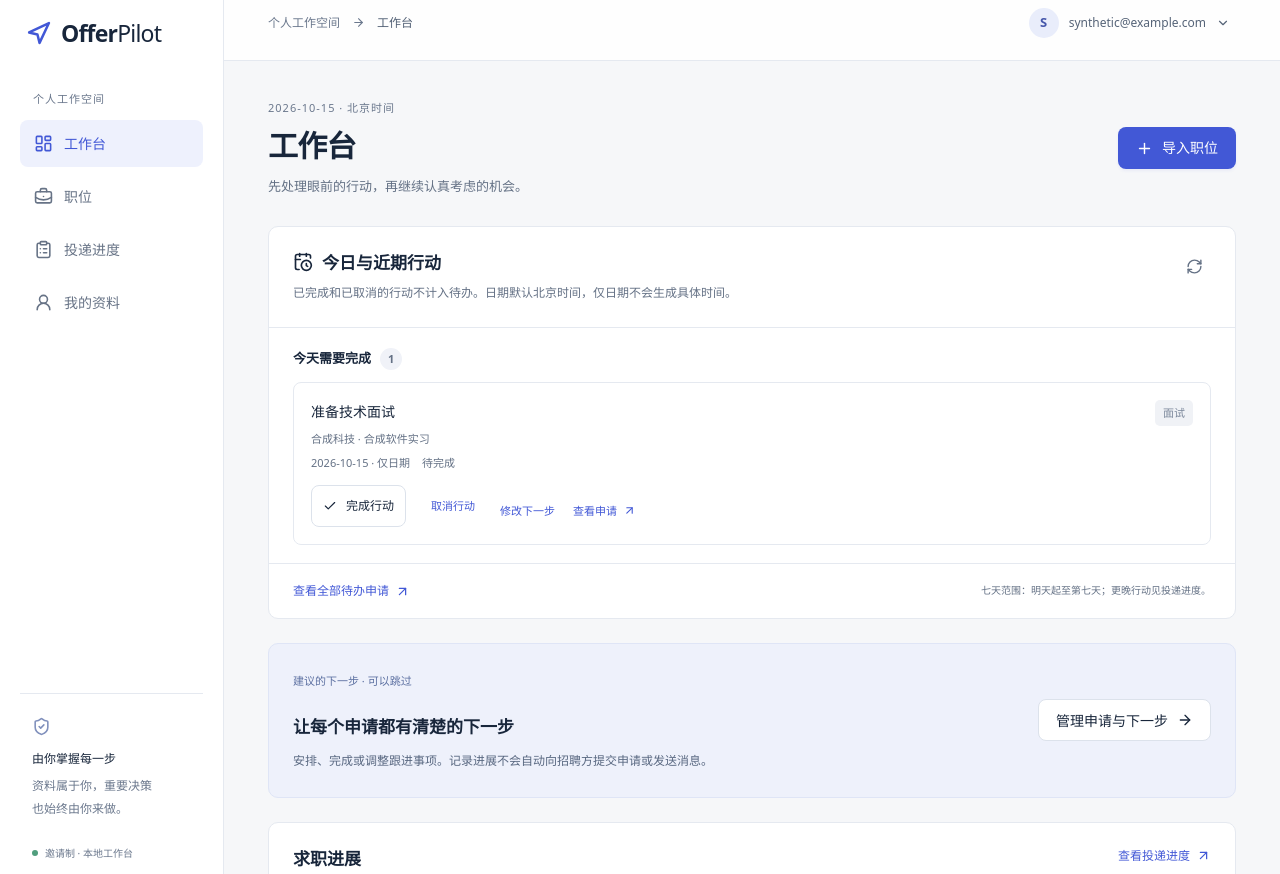
Test: requires cancellation confirmation and supports restoring through the same application API
The image size is (1280, 874).
Click the button "取消行动": x=453, y=506 [424, 493, 482, 519]
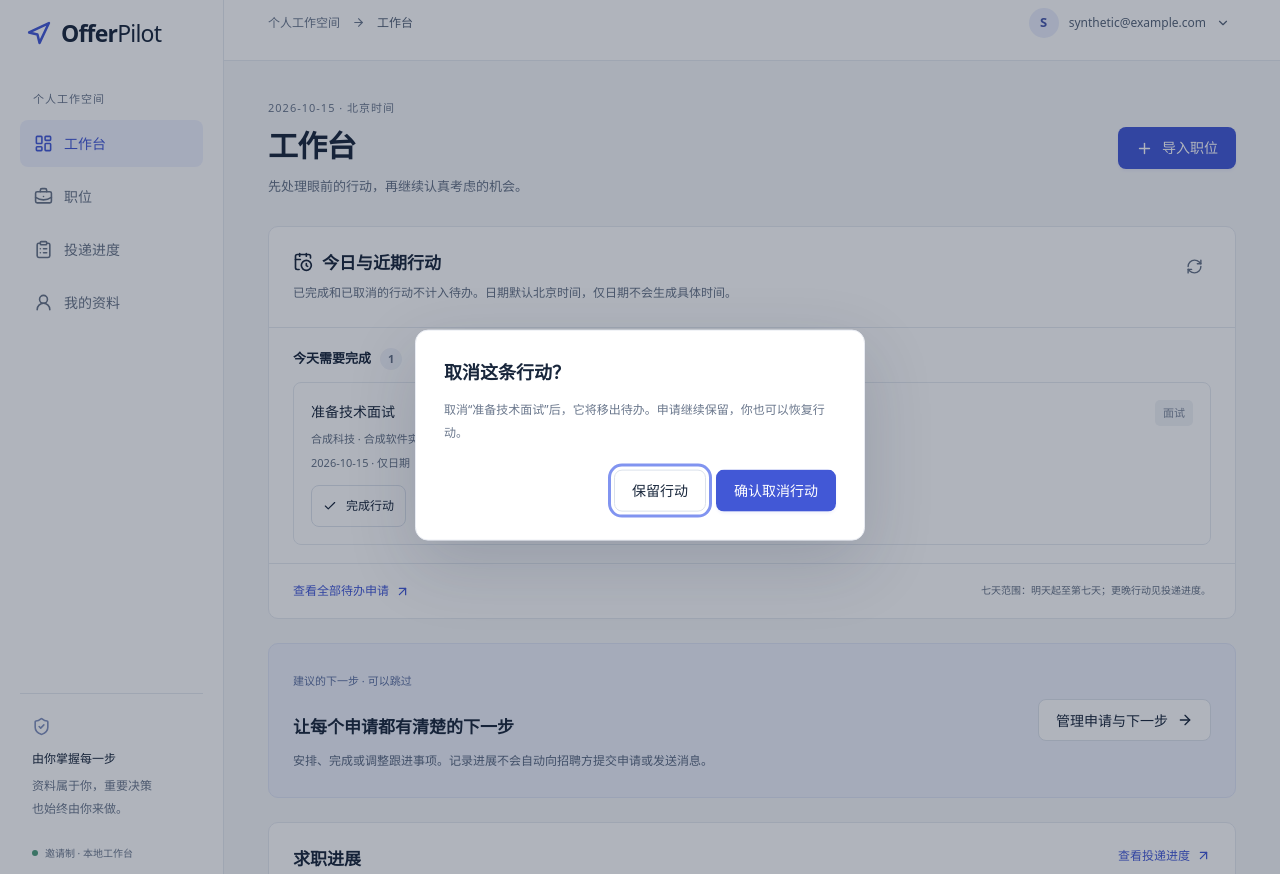
Click the button "确认取消行动": x=776, y=490 [716, 469, 836, 511]
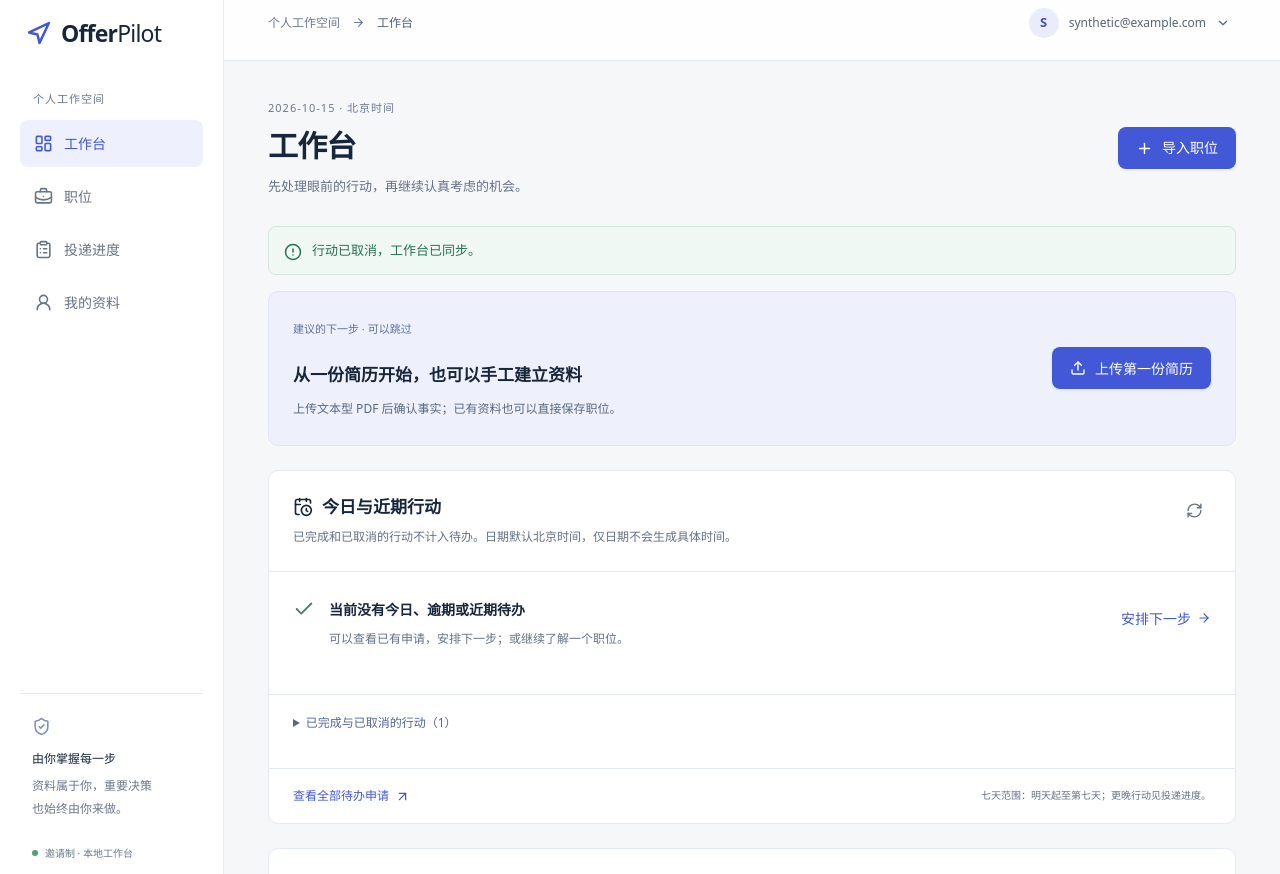
Check: the text "行动已取消，工作台已同步。" is shown, box [312, 240, 481, 261]
Click the heading "已完成与已取消的行动（1）": x=381, y=722 [306, 714, 457, 731]
(page scrolled)
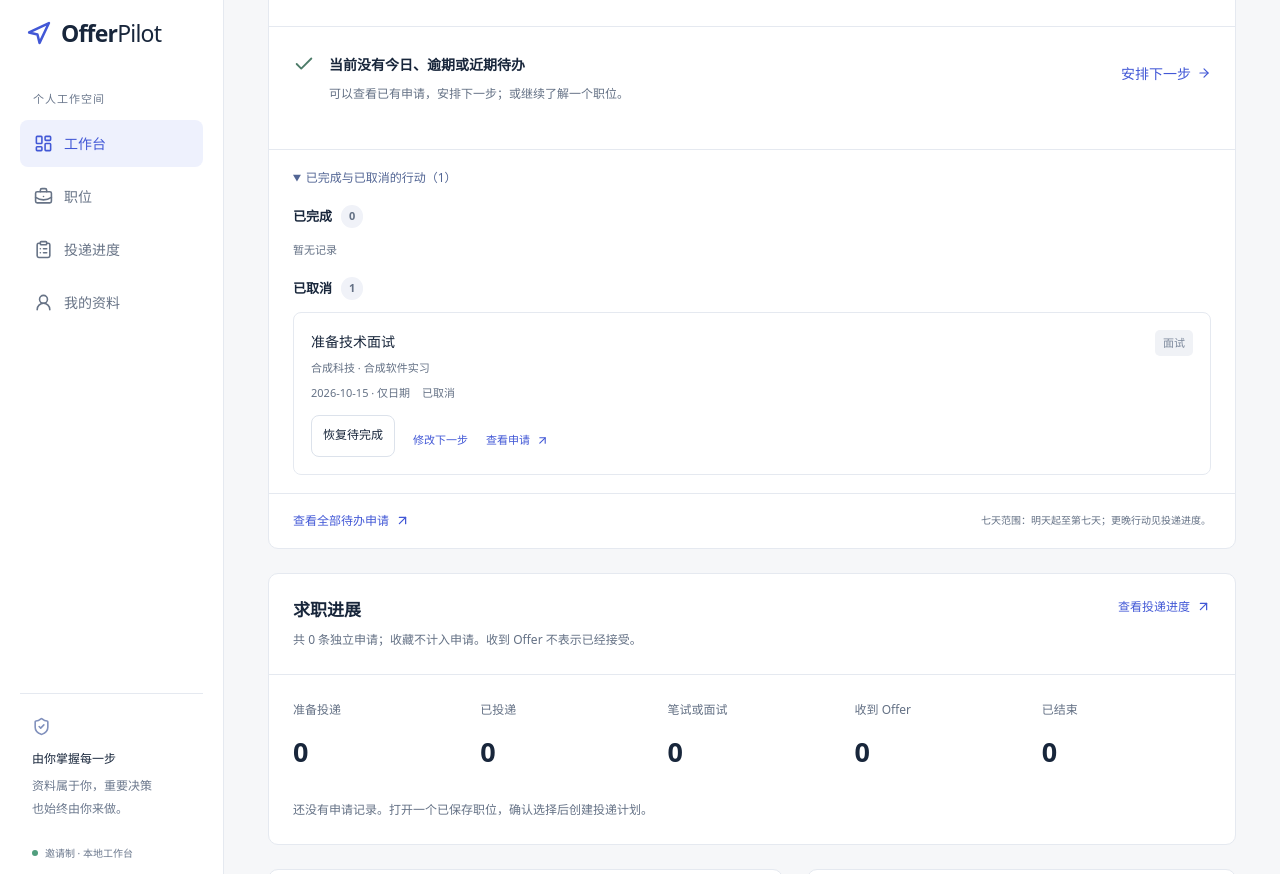
Click the button "恢复待完成": x=353, y=436 [311, 415, 395, 457]
(page scrolled)
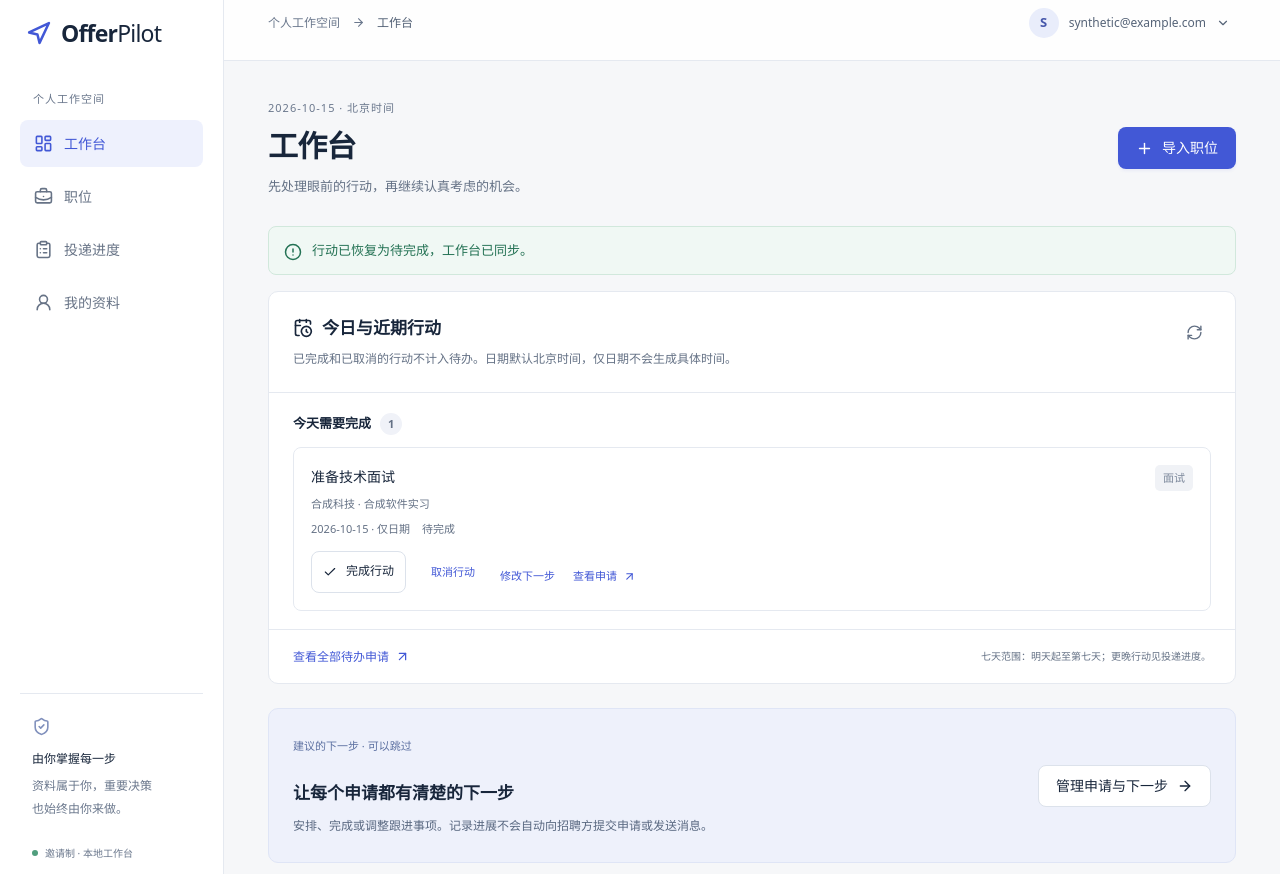
Check: the text "行动已恢复为待完成，工作台已同步。" is shown, box [312, 240, 533, 261]
